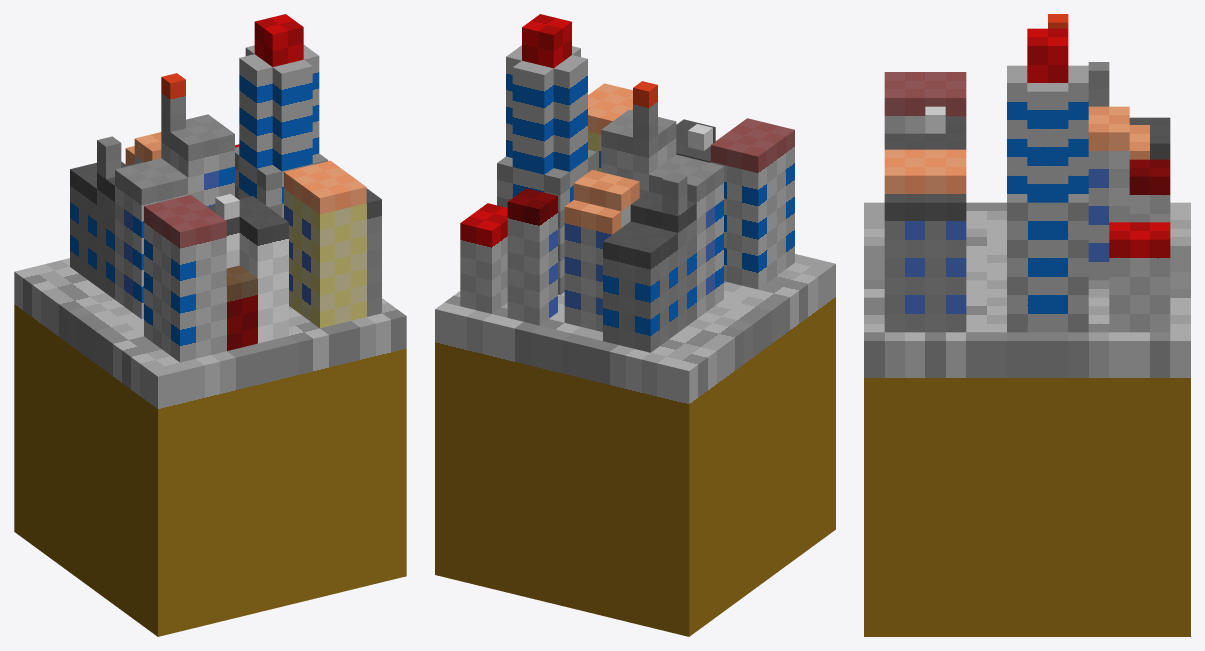
File: metropolis.gltf
3 renders of one model, left to right at view 1: azimuth 30°, elevation 25°; view 2: azimuth 150°, elevation 25°; view 3: azimuth 270°, elevation 25°, orthographic. The views are drawn at different scales.
Visible parts, largest first — view 1: Content-Mesh; view 2: Content-Mesh; view 3: Content-Mesh.
Part boxes in pixels (box(x1,y1,x2,y2)): Content-Mesh: box(14, 14, 406, 636); Content-Mesh: box(435, 14, 835, 636); Content-Mesh: box(864, 14, 1190, 636).
Size of the model in its own units: 16 by 31 by 16.
1 material, 1 textured.
